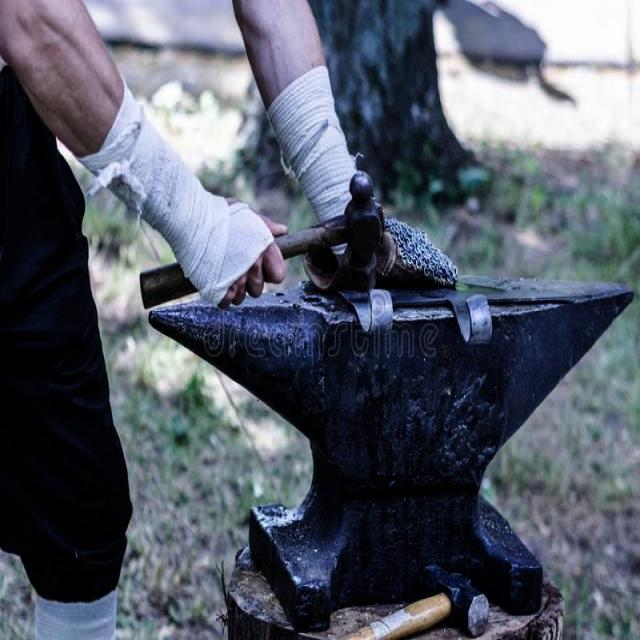hammer: (133, 170, 394, 344)
